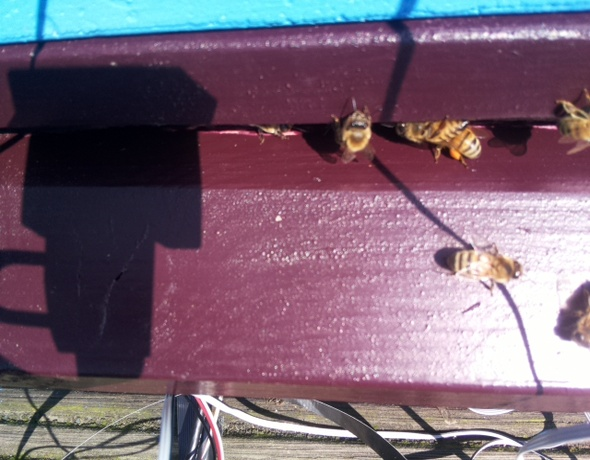no_pollen: (439, 240, 528, 291), (333, 104, 375, 163), (393, 116, 469, 145), (553, 100, 590, 152), (566, 281, 590, 352)
pollen: (424, 120, 484, 167)
